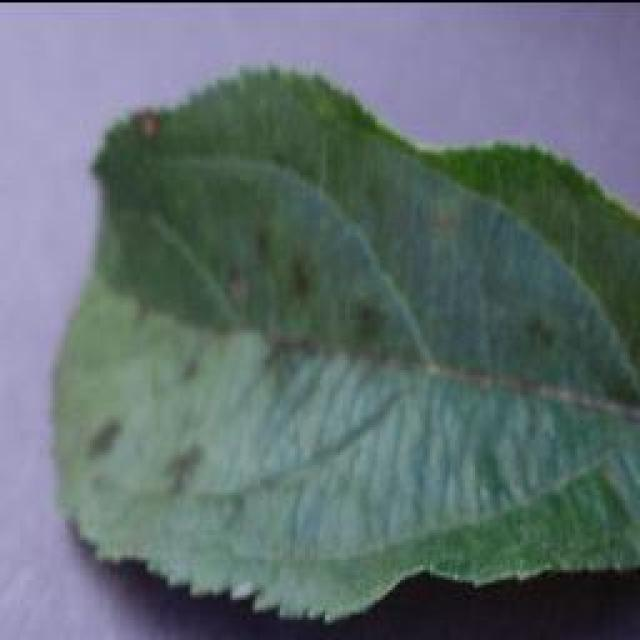apple scab disease: (48, 60, 638, 622)
